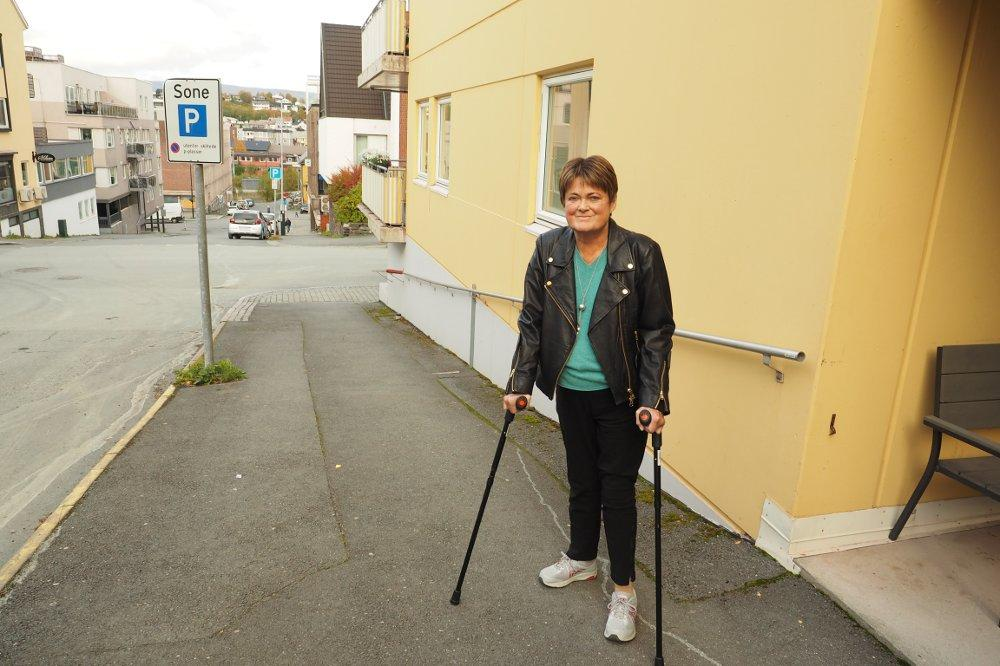crutches: (450, 155, 676, 666)
